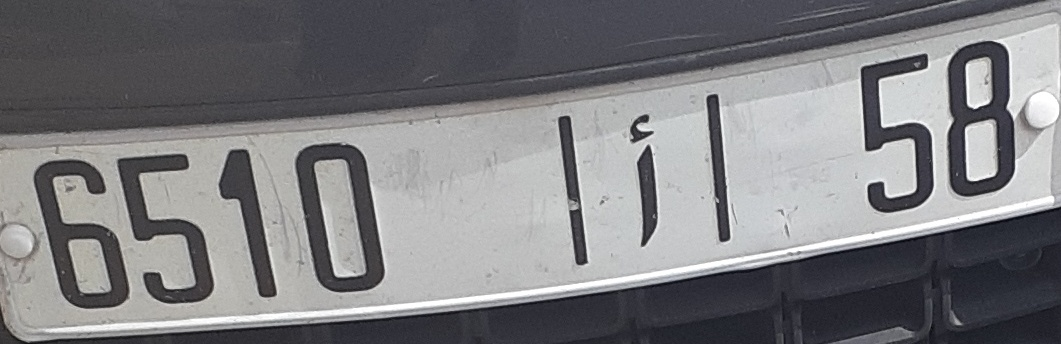0: (292, 138, 393, 295)
1: (210, 139, 287, 301)
5: (115, 146, 216, 307), (852, 51, 941, 216)
6: (29, 153, 130, 308)
8: (943, 37, 1022, 201)
a: (623, 106, 669, 253)
